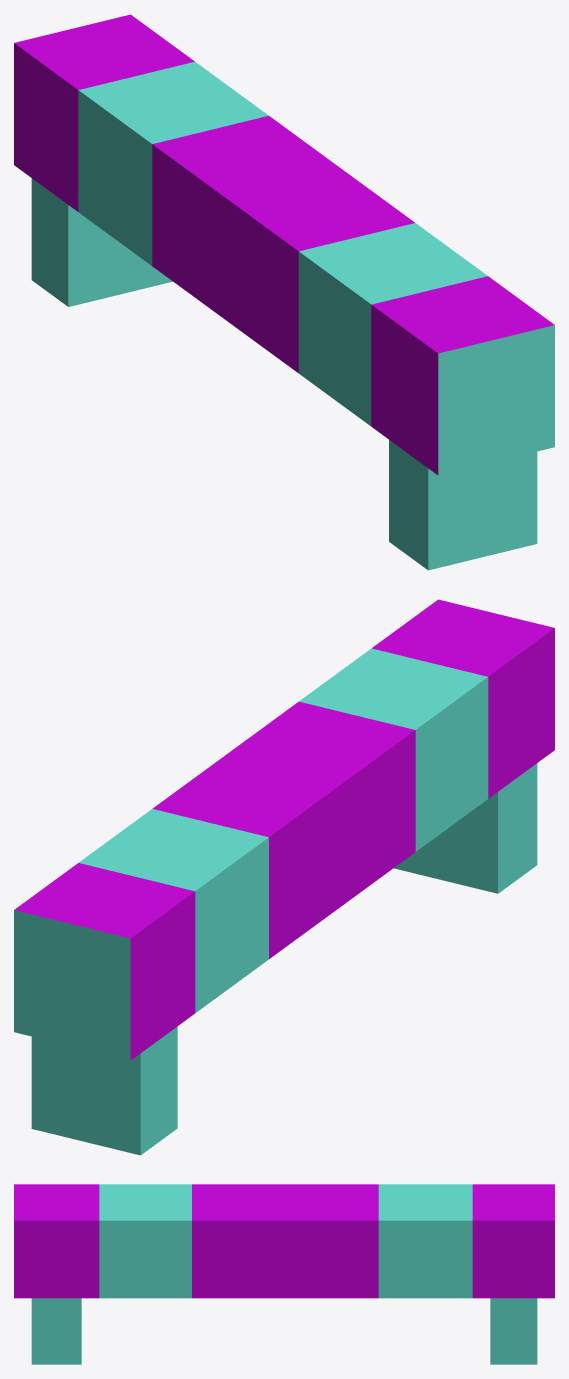
Rendered from TrapTwo.fbx.
3 views of the same model, one above another, from view 1: azimuth 30°, elevation 25°; view 2: azimuth 150°, elevation 25°; view 3: azimuth 270°, elevation 25° (orthographic). The views are drawn at different scales.
Visible parts, largest first — view 1: Cube; view 2: Cube; view 3: Cube.
Part boxes in pixels (x1=…): Cube: x1=14, y1=14, x2=554, y2=570; Cube: x1=14, y1=599, x2=554, y2=1155; Cube: x1=14, y1=1184, x2=554, y2=1364.
Bounding box in the file's own units: 200 × 373 × 1259.
